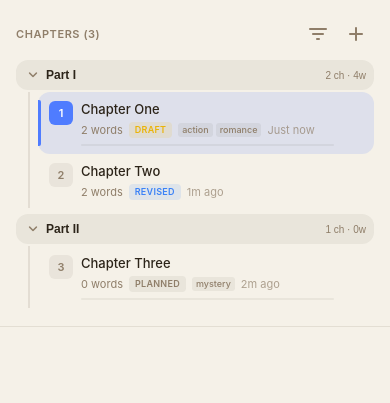
Scenario: VirtualChapterList › shows filter controls when expanded
Click the button named "Toggle filters". click: click(318, 34)
box: [300,16,336,52]
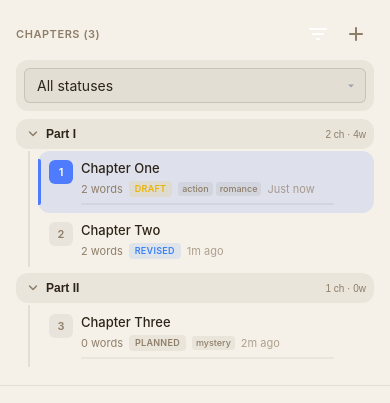
Now the dropdown is shown, box [24,68,366,103]
